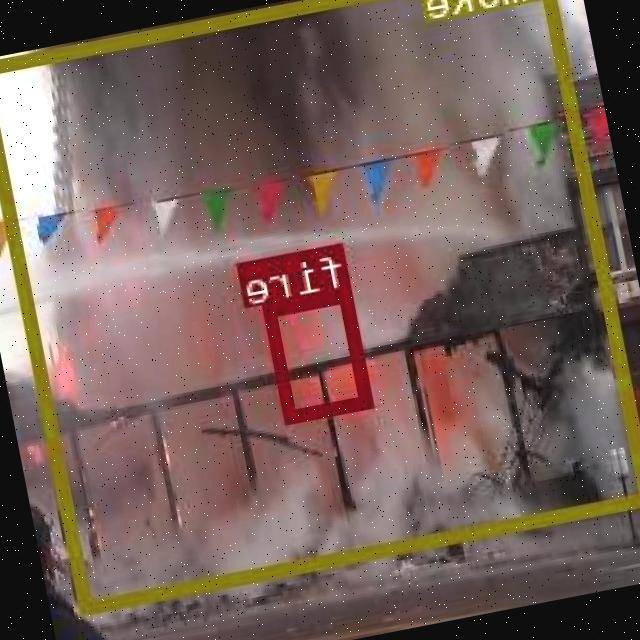fire: (266, 286, 377, 420)
smoke: (0, 0, 640, 613)
